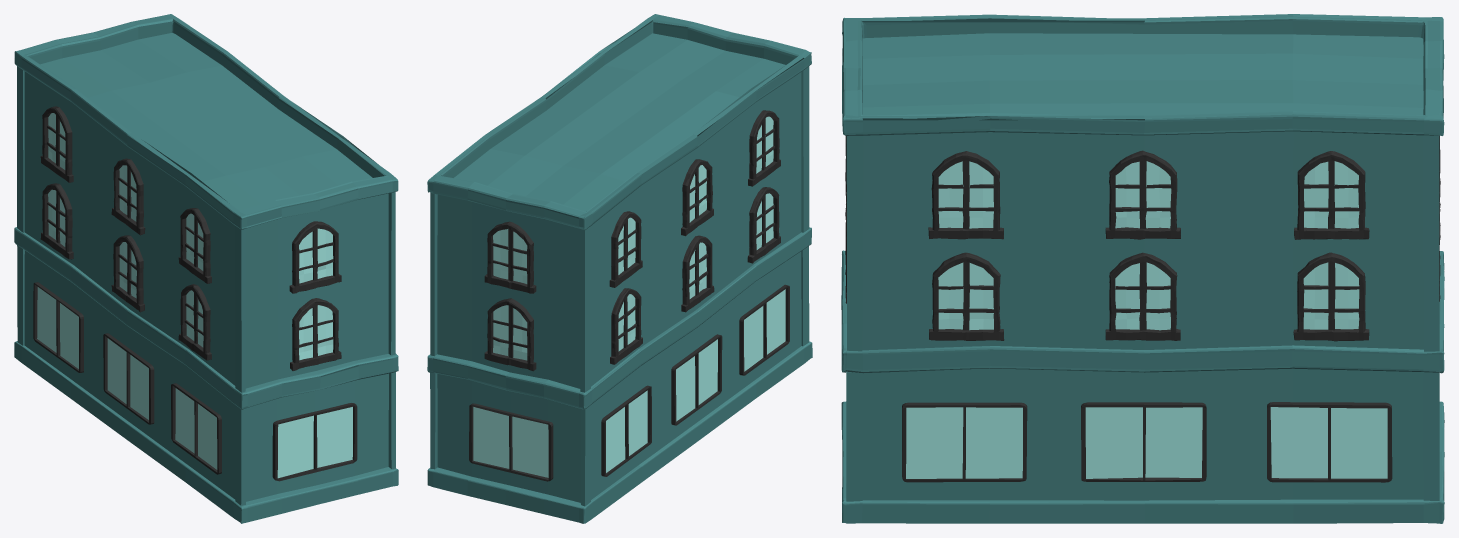
The model's file is school 2 full window.fbx.
3 views of the same model, side by side, from view 1: azimuth 30°, elevation 25°; view 2: azimuth 150°, elevation 25°; view 3: azimuth 270°, elevation 25° (orthographic). The views are drawn at different scales.
Parts seen in each view (by area): view 1: Cube.049; view 2: Cube.049; view 3: Cube.049.
Part boxes in pixels (box(x1,y1,x2,y2)): Cube.049: box(14, 14, 398, 523); Cube.049: box(427, 14, 812, 523); Cube.049: box(841, 14, 1444, 523).
Bounding box in the file's own units: 576 × 1059 × 1413.
